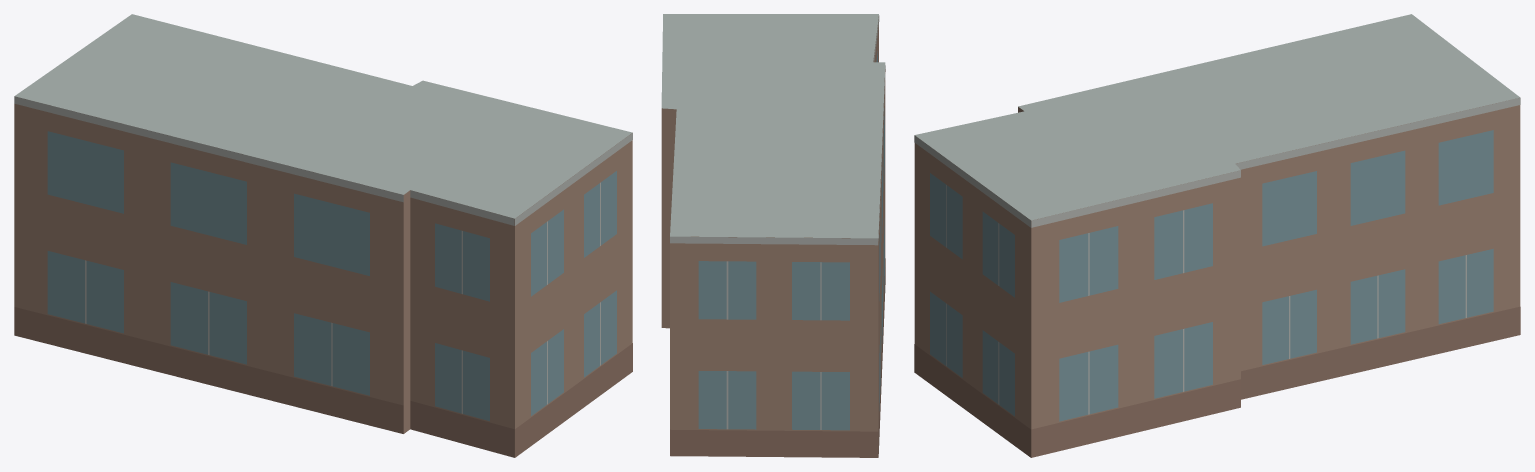
Rendered from survey-upis-32633754.glb.
The picture shows the model from 3 angles, left to right: view 1: azimuth 30°, elevation 25°; view 2: azimuth 150°, elevation 25°; view 3: azimuth 270°, elevation 25°; orthographic projection. The views are drawn at different scales.
Parts seen in each view (by area): view 1: survey-upis-32633754.tmp; view 2: survey-upis-32633754.tmp; view 3: survey-upis-32633754.tmp.
Boxes of the visible parts, <box> form: survey-upis-32633754.tmp: <box>14,14,632,457</box>; survey-upis-32633754.tmp: <box>661,14,885,457</box>; survey-upis-32633754.tmp: <box>914,14,1520,457</box>.
Bounding box in the file's own units: 14.66 × 7.85 × 18.18.
